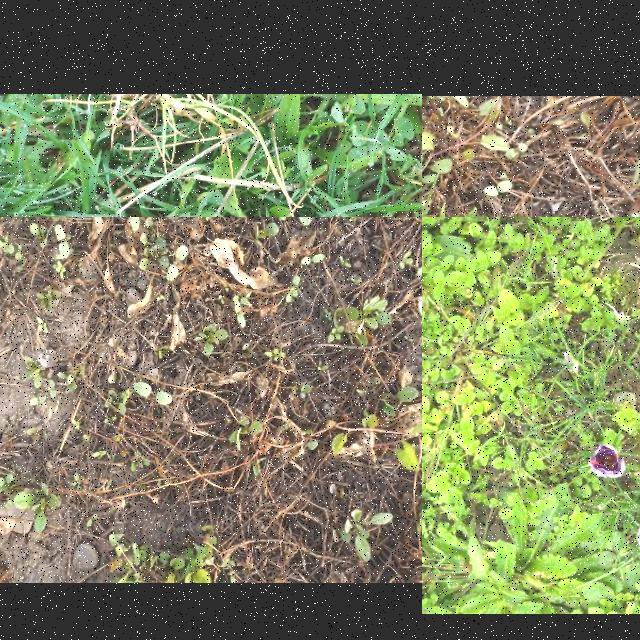flower: (590, 444, 626, 480)
